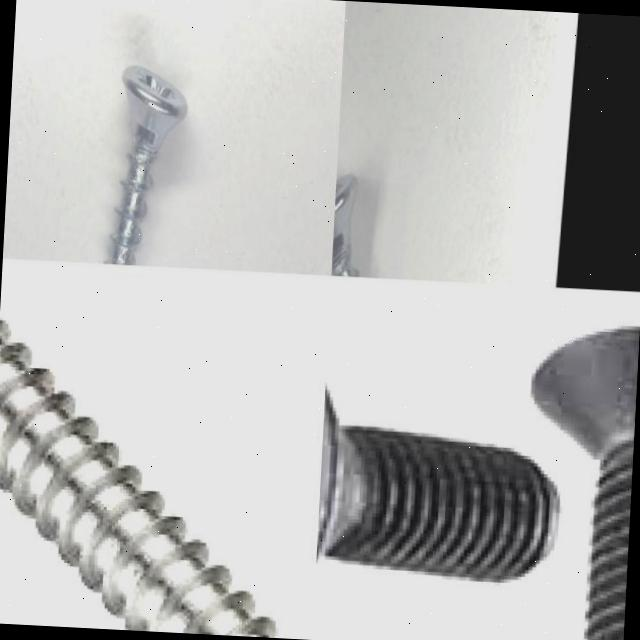Screw: (0, 318, 295, 639), (316, 391, 562, 580), (535, 323, 640, 640), (105, 67, 187, 266), (331, 176, 359, 277)
